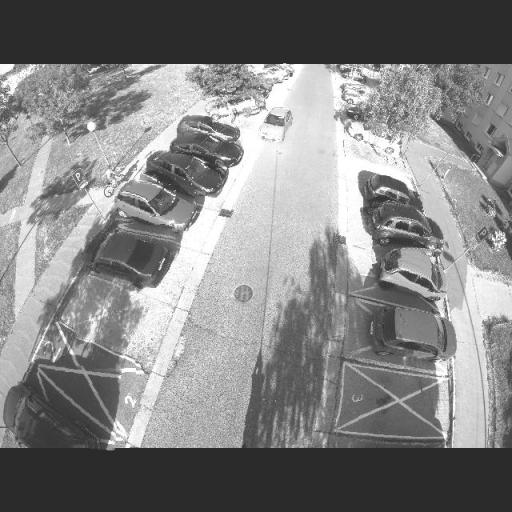busy: (14, 363, 120, 448), (82, 226, 179, 286), (362, 196, 448, 262), (112, 179, 194, 229), (141, 149, 227, 195), (376, 242, 444, 292), (343, 121, 409, 157), (170, 134, 236, 164), (360, 176, 421, 206), (177, 116, 236, 142), (208, 92, 259, 120), (255, 107, 292, 144), (336, 82, 374, 108), (254, 65, 290, 84)
free: (51, 356, 136, 398), (70, 294, 144, 341), (358, 386, 438, 424)
